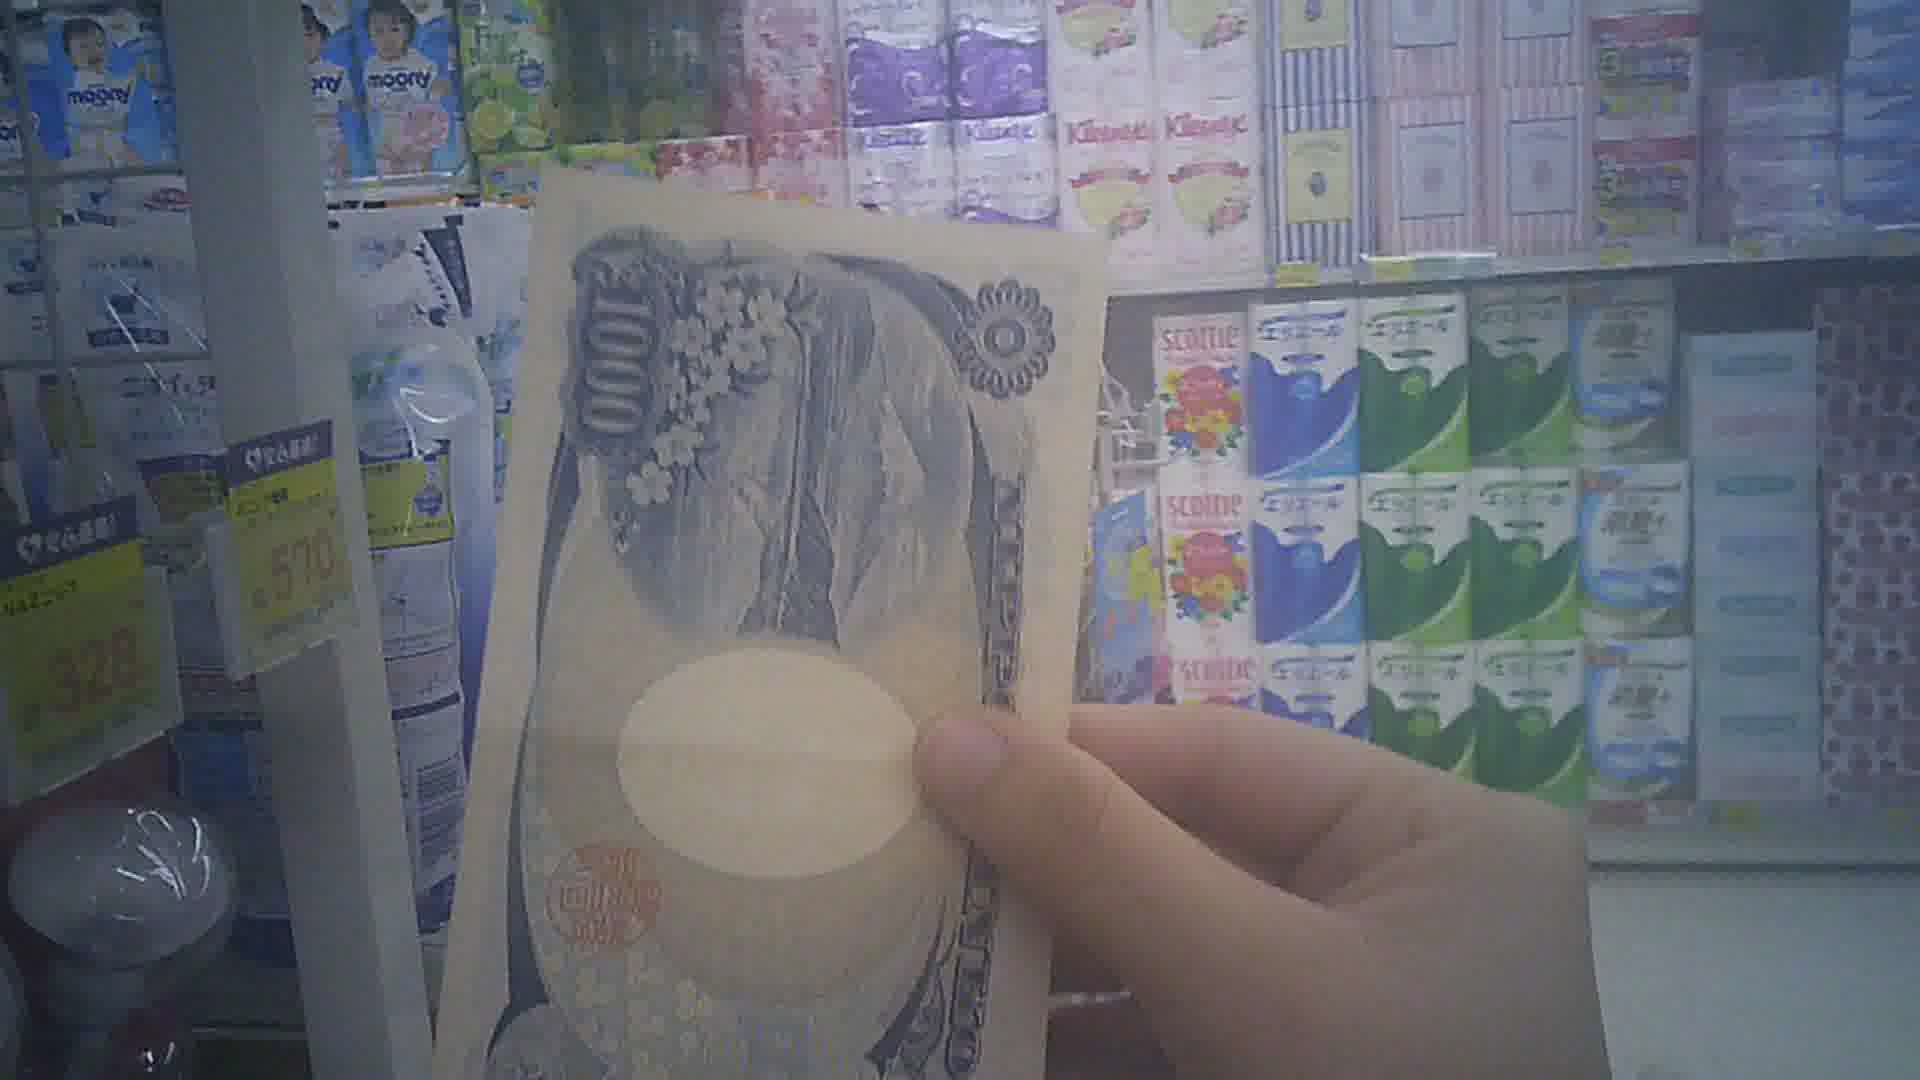1,000 Yen: (451, 165, 1110, 1079)
